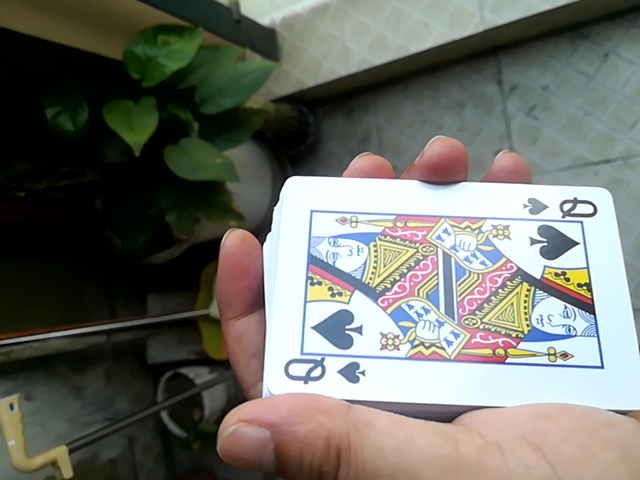ht q: (249, 165, 639, 410)
